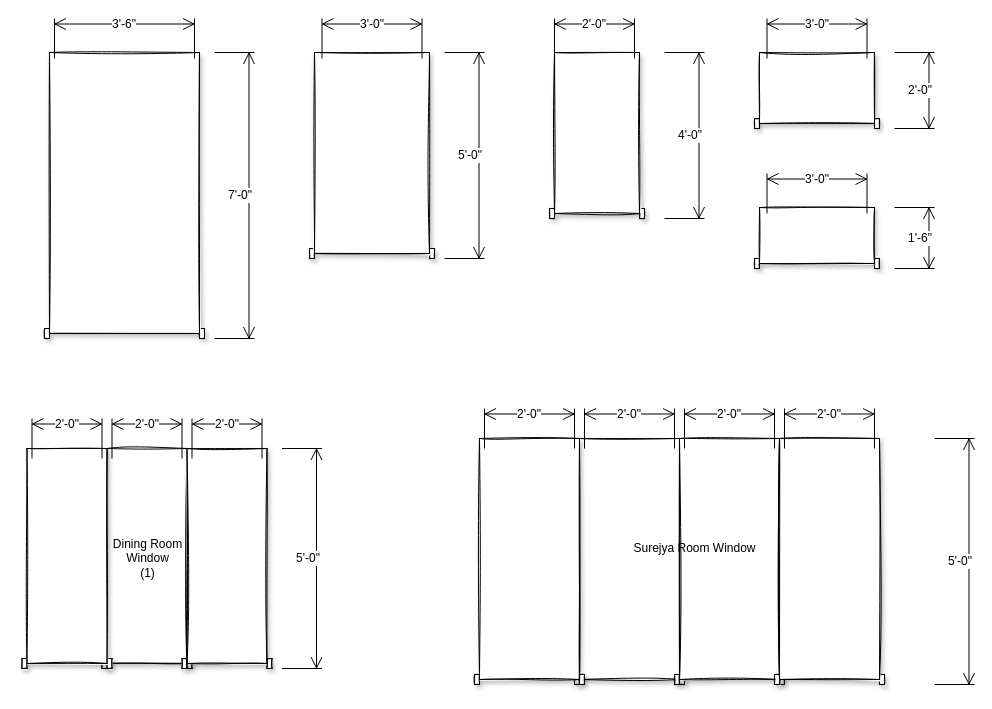
This 992x709 diagram has some shape labels left out. The centre of each missing label's shape, as x and y in pixels:
Bathroom & Store Ventilator (4): the point at 818,239
North Main Door & Pooja Door (2): the point at 125,197
North Window (1): the point at 372,157
Pooja & Kitchen Window (2): the point at 818,92
South & West Windows (5): the point at 597,137
